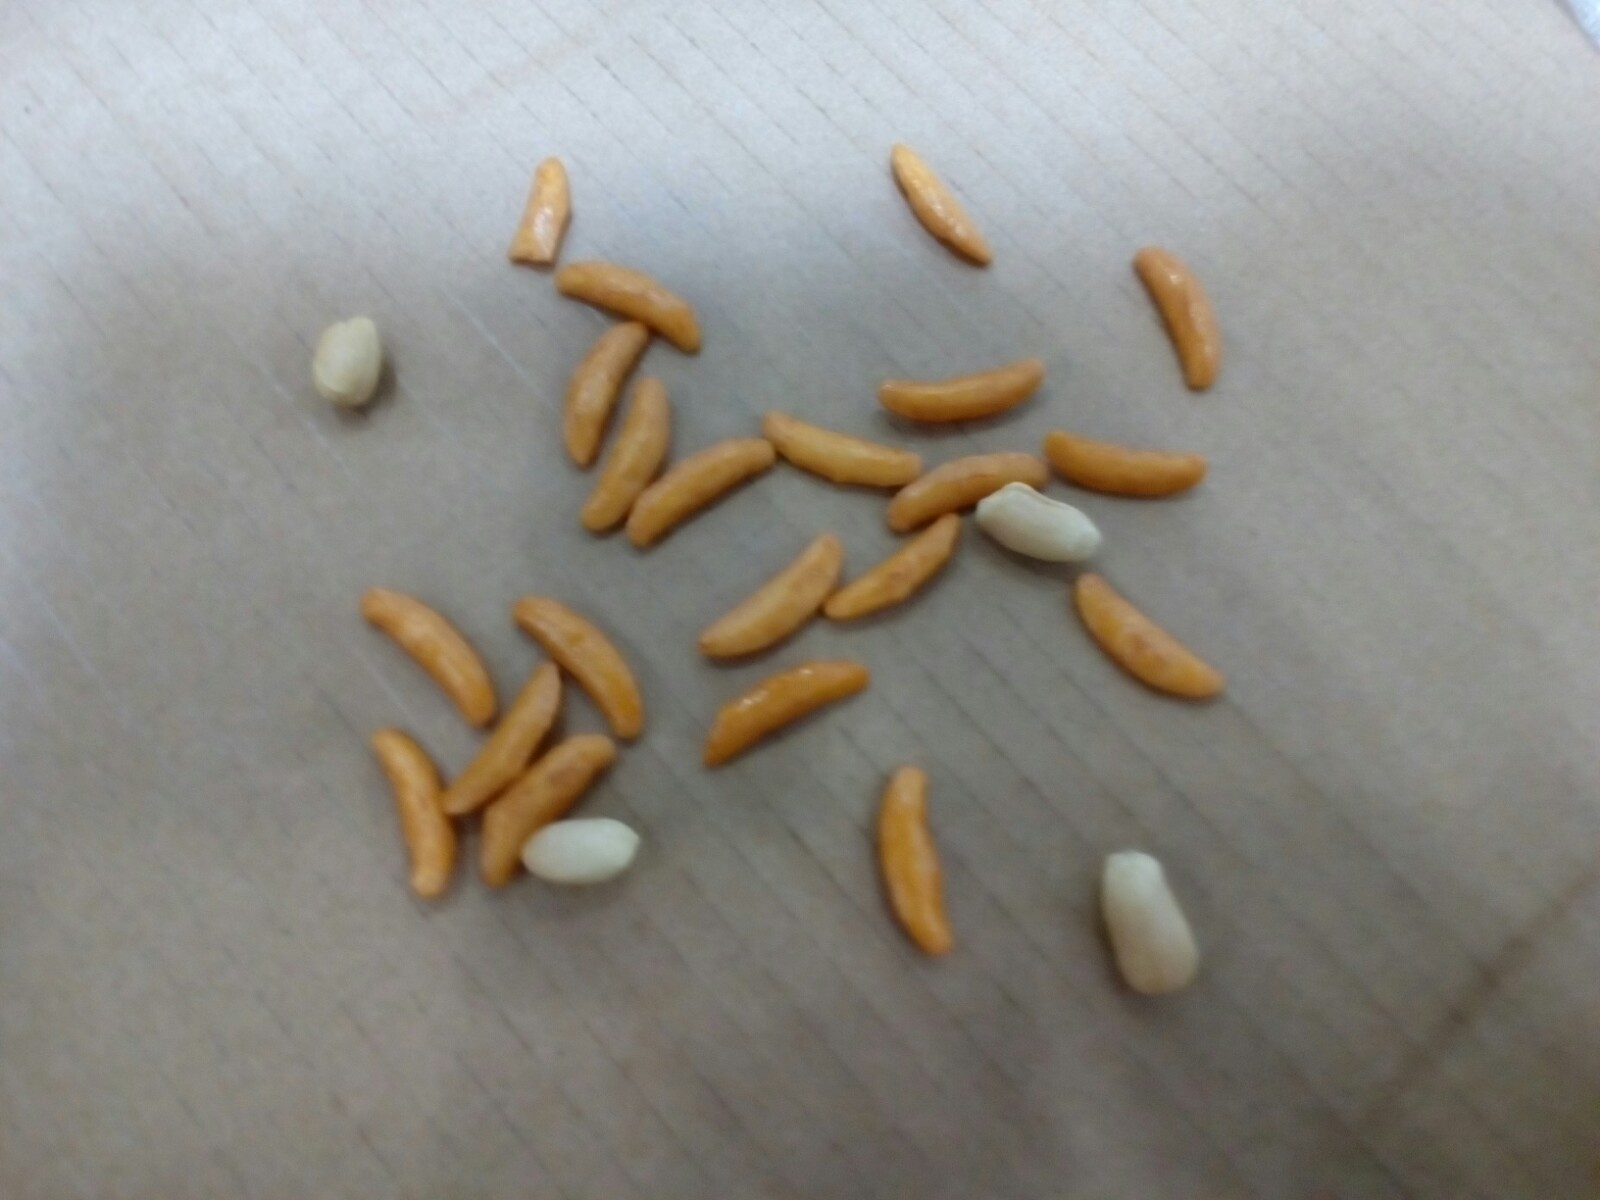peanut: (1091, 846, 1204, 1003), (968, 474, 1117, 571), (517, 817, 651, 884), (307, 303, 387, 413)
